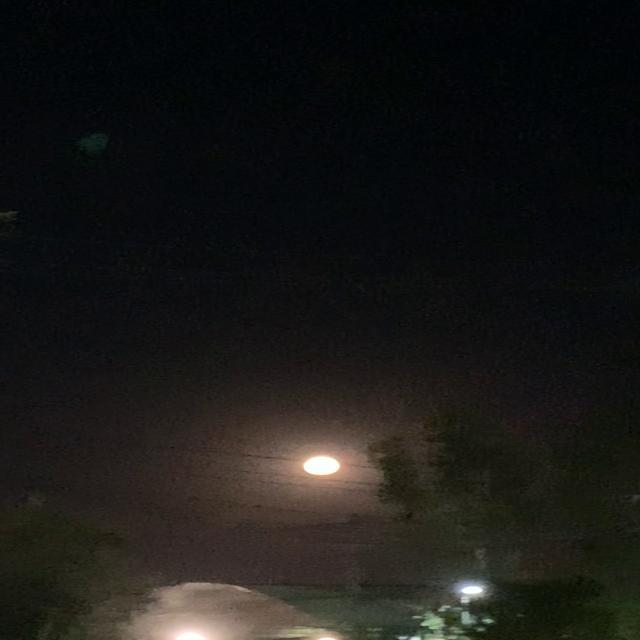moon: (304, 454, 357, 480)
